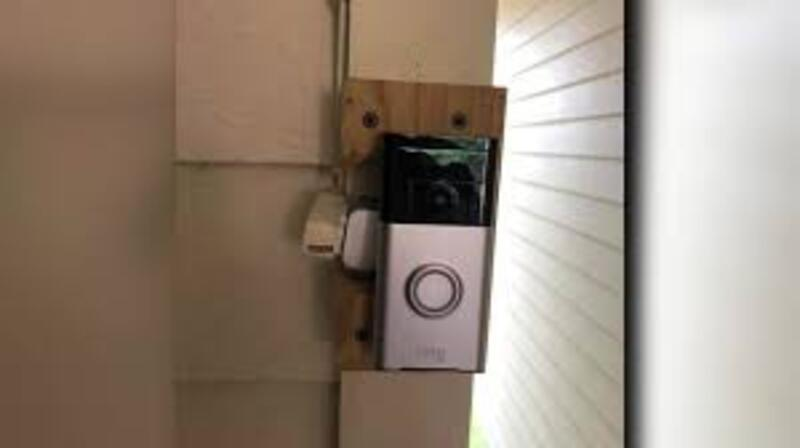doorbell: (371, 126, 494, 375)
